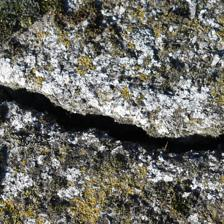Crack: (4, 40, 218, 132)
